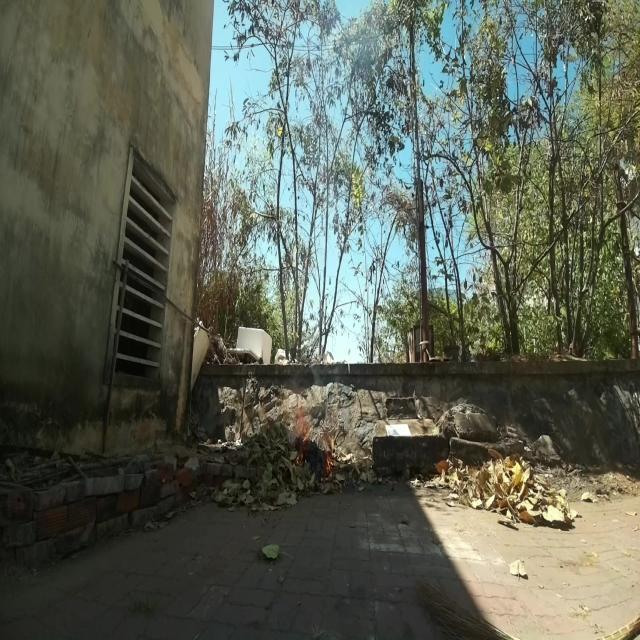Fire: (292, 409, 310, 443), (324, 434, 336, 474)
